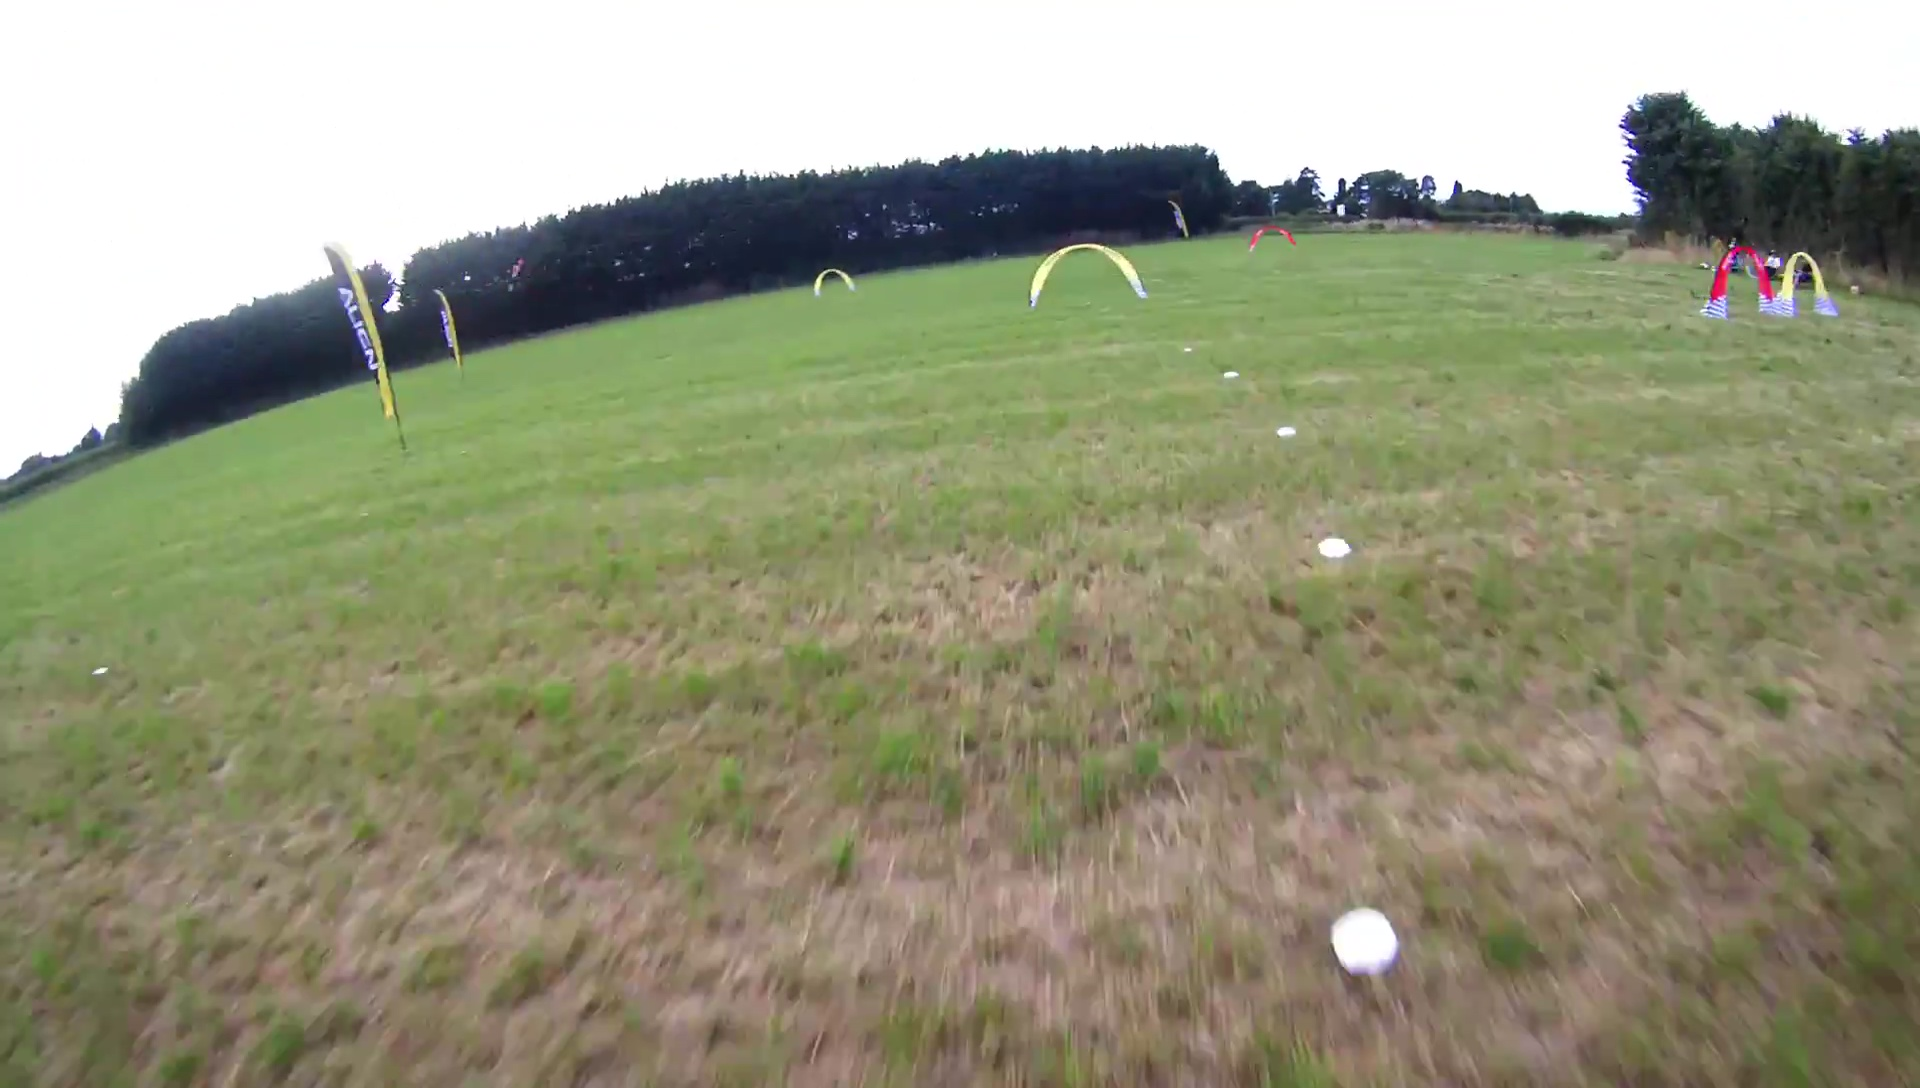gate: (1027, 241, 1149, 310), (1700, 245, 1778, 320), (1776, 252, 1842, 320), (1246, 224, 1299, 255), (812, 268, 857, 297)
